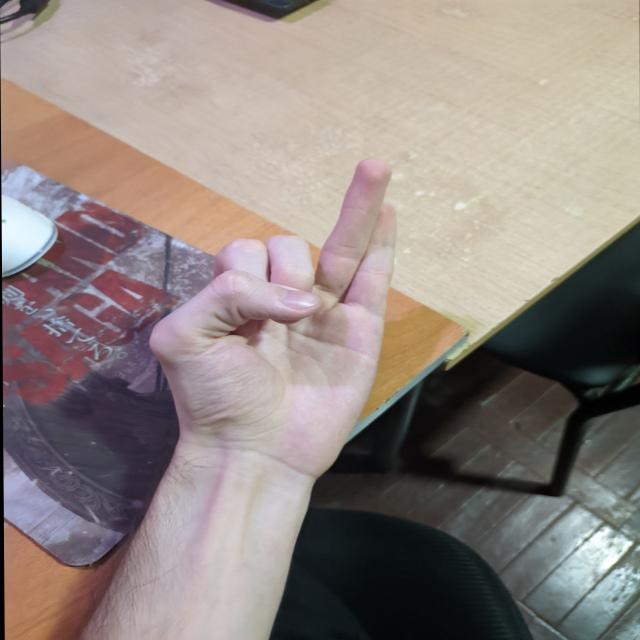i: (151, 165, 433, 447)
